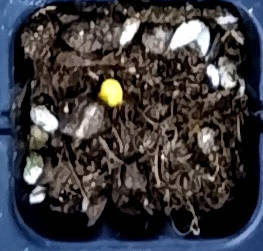pepper seed: (35, 23, 160, 131)
